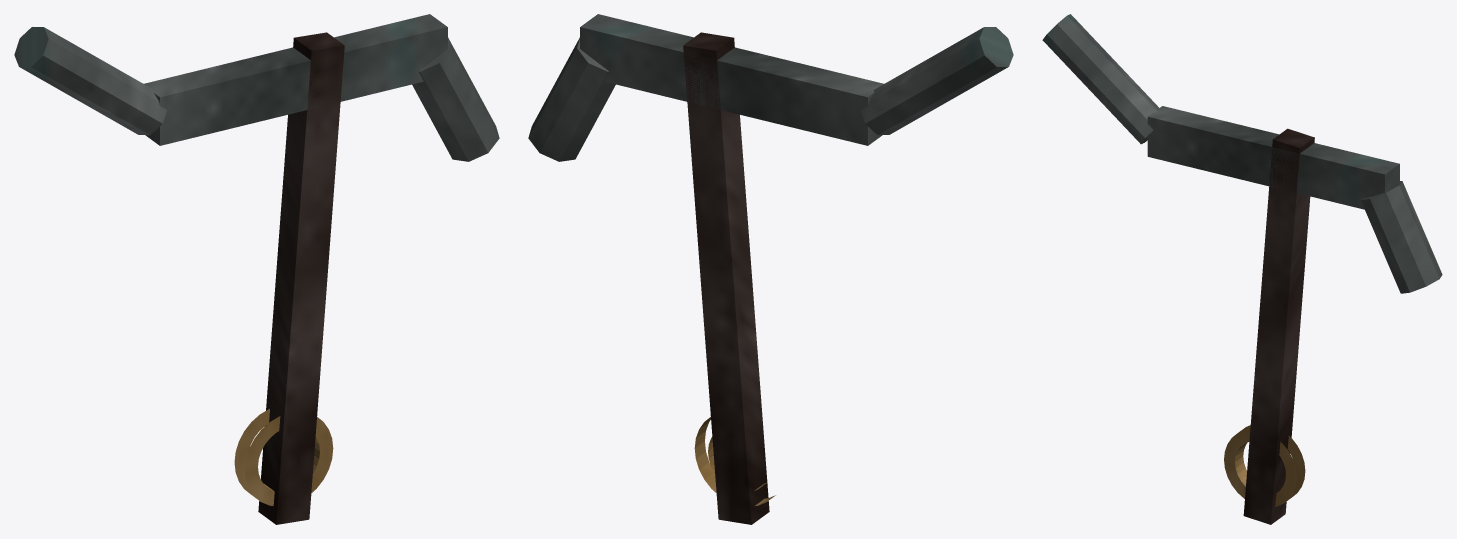
The model's file is 0891_climbing_axe_16.glb.
3 renders of one model, left to right at view 1: azimuth 30°, elevation 25°; view 2: azimuth 150°, elevation 25°; view 3: azimuth 330°, elevation 25°, orthographic. The views are drawn at different scales.
Parts seen in each view (by area): view 1: iron, wood_dark, brass; view 2: iron, wood_dark, brass; view 3: iron, wood_dark, brass.
Boxes of the visible parts, x1=… form: iron: x1=14, y1=14, x2=499, y2=161; wood_dark: x1=258, y1=32, x2=344, y2=524; brass: x1=234, y1=408, x2=333, y2=505; iron: x1=528, y1=14, x2=1013, y2=161; wood_dark: x1=683, y1=32, x2=769, y2=524; brass: x1=694, y1=417, x2=775, y2=505; iron: x1=1042, y1=14, x2=1442, y2=293; wood_dark: x1=1243, y1=128, x2=1314, y2=524; brass: x1=1224, y1=425, x2=1305, y2=506.
Bounding box in the file's own units: 1.08 × 1.18 × 0.11.
3 materials, 3 textured.
